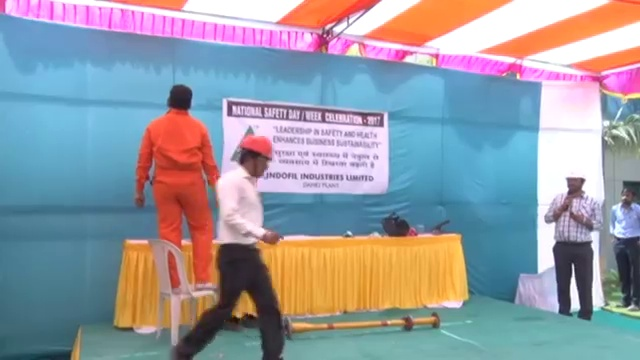helmet: (241, 134, 274, 160), (564, 168, 587, 182)
helmet_off: (165, 82, 193, 111), (619, 183, 634, 206)
helmet_on: (235, 134, 275, 181), (561, 167, 589, 198)
person: (171, 134, 284, 360), (129, 81, 218, 291), (542, 166, 600, 320), (611, 181, 640, 314)
